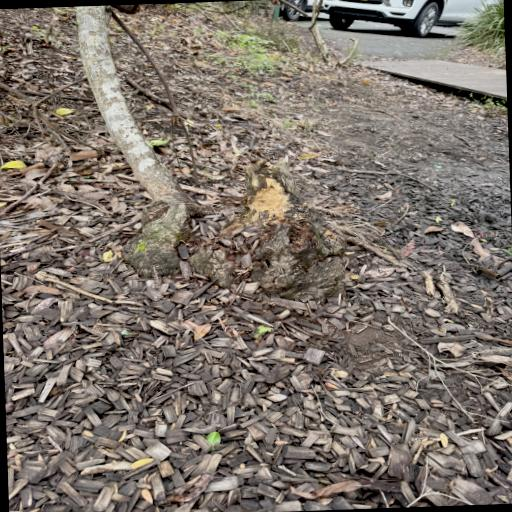tree root: (75, 5, 344, 315)
